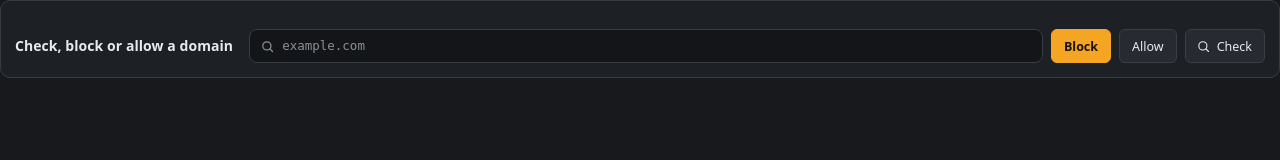
Already one of your rules, while typing › without Allowed: View the allow rules are not read, and the line says so
Type "example.net" into the field named "Domain" at (646, 46), box top-left (249, 29), bottom-right (1043, 63)
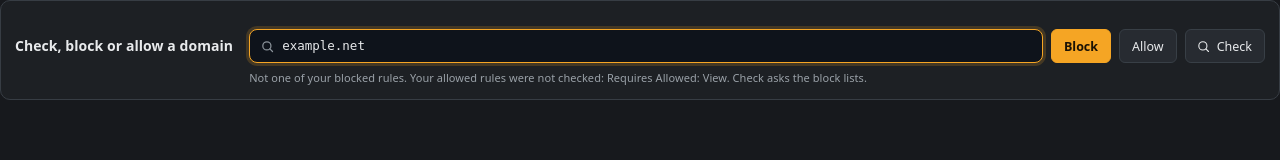
Expected: the text "Not one of your blocked rules. Your allowed rules were not checked: Requires Allowed: View. Check asks the block lists." is shown, top-left (249, 70), bottom-right (867, 85)
